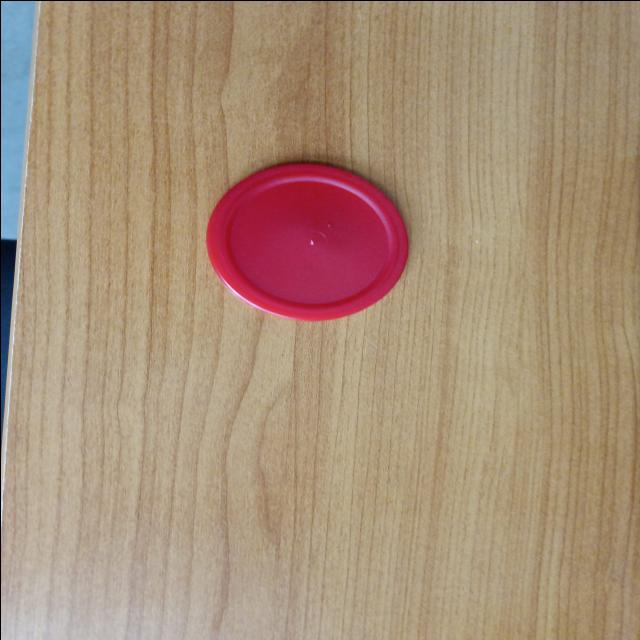chip: (202, 160, 412, 321)
